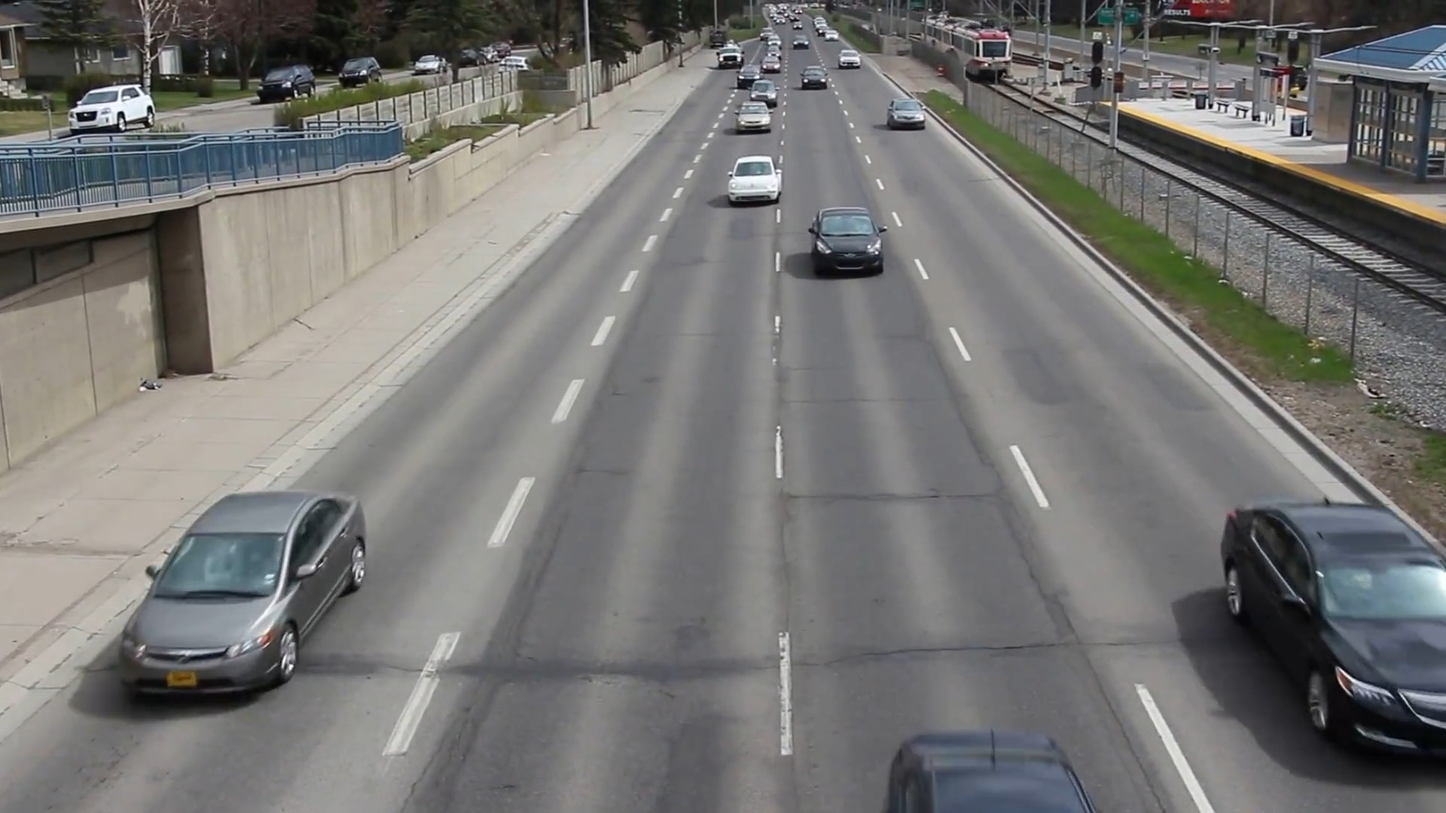car: (119, 486, 370, 714), (808, 198, 884, 280), (720, 149, 784, 206), (878, 96, 933, 134)
